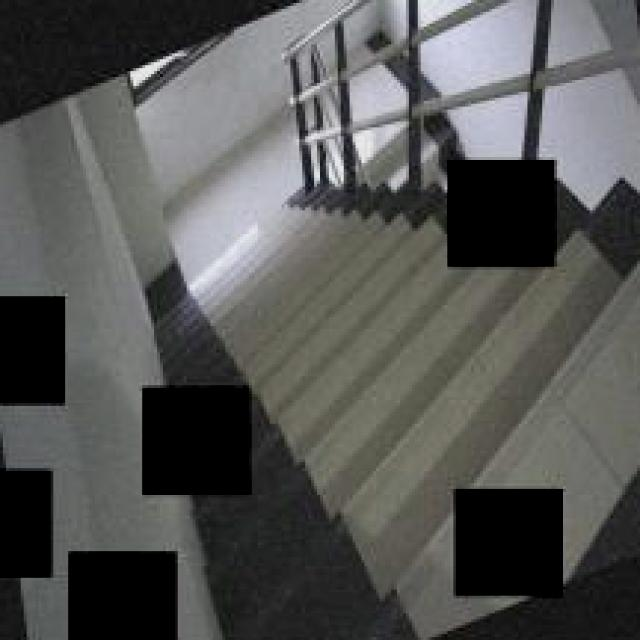downstair: (241, 188, 431, 368)
